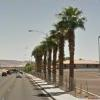Tree: (30, 2, 88, 69)
